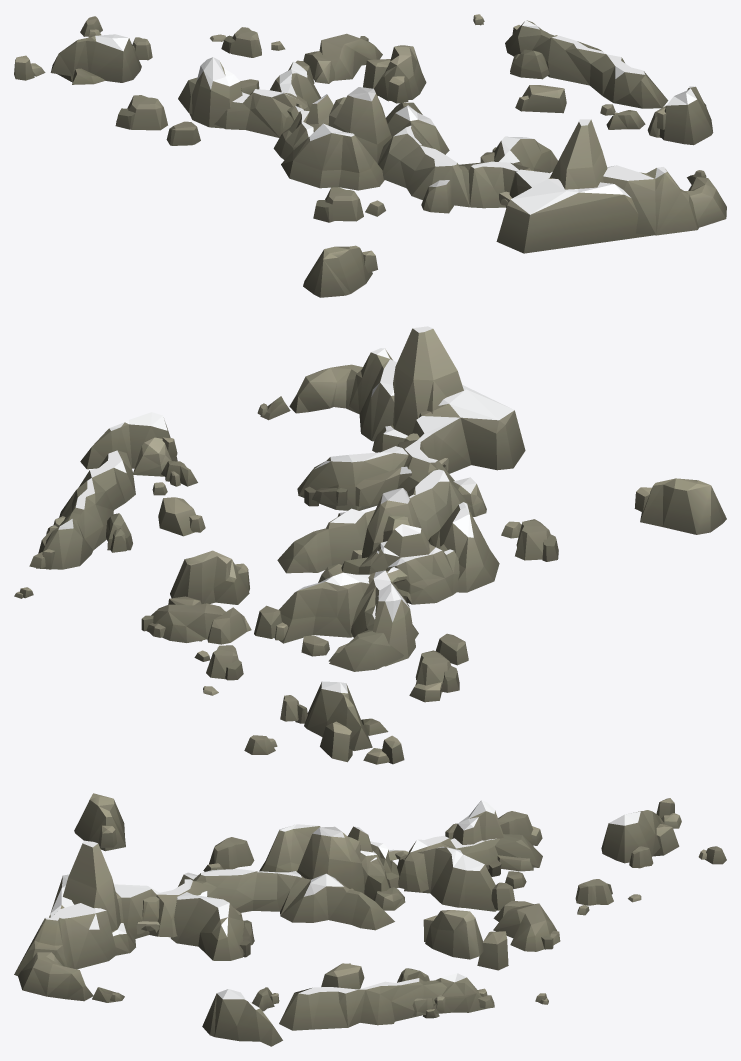
Rendered from rocky_mountain.fbx.
3 views of the same model, one above another, from view 1: azimuth 30°, elevation 25°; view 2: azimuth 150°, elevation 25°; view 3: azimuth 270°, elevation 25° (orthographic). The views are drawn at different scales.
Visible parts, largest first — view 1: rocky_mountain; view 2: rocky_mountain; view 3: rocky_mountain.
Part boxes in pixels (x1,y1,x2,y2): rocky_mountain: [14, 14, 726, 297]; rocky_mountain: [14, 326, 726, 764]; rocky_mountain: [14, 793, 726, 1046].
Size of the model in its own units: 76558 by 18266 by 98461.
